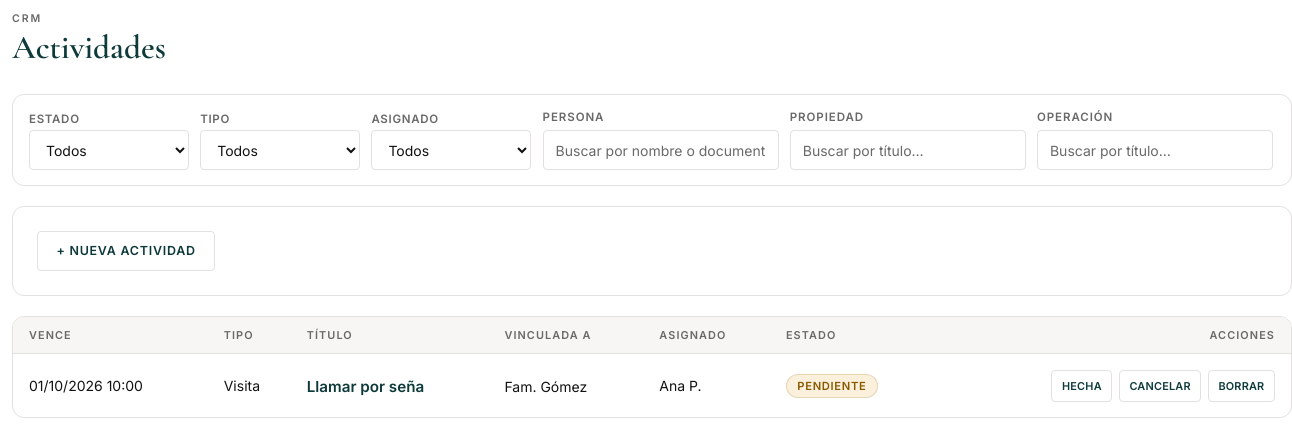
cancelar pide confirmación y actualiza la fila
Click the button "Cancelar" at (1160, 386), box [1119,370,1201,402]
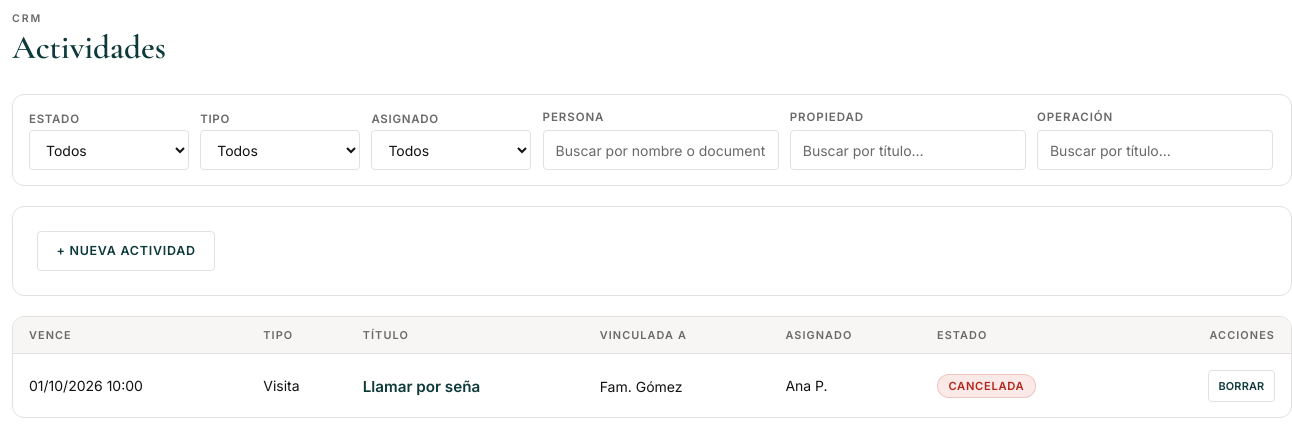
Now the text "Cancelada" is shown, box [937,374,1036,398]
